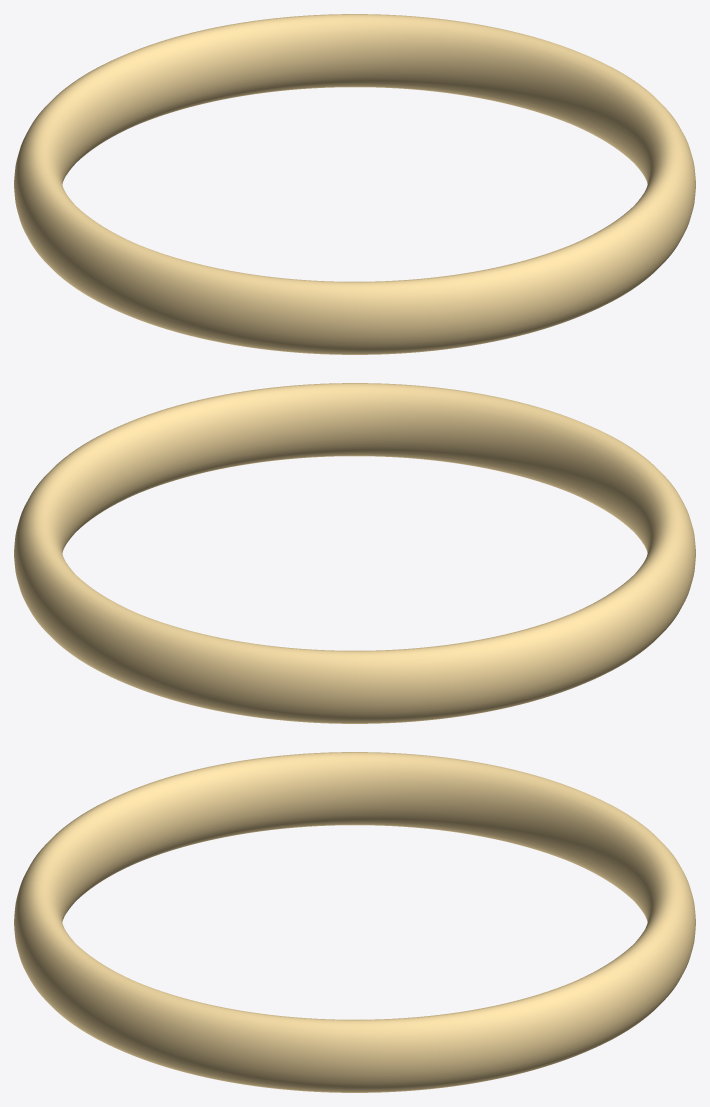
File: bangle-gold.glb
3 renders of one model, top to bottom at view 1: azimuth 30°, elevation 25°; view 2: azimuth 150°, elevation 25°; view 3: azimuth 270°, elevation 25°, orthographic.
Visible parts, largest first — view 1: bangle; view 2: bangle; view 3: bangle.
Part boxes in pixels (left/top/right/bottom): bangle: left=14, top=14, right=695, bottom=354; bangle: left=14, top=383, right=695, bottom=723; bangle: left=14, top=752, right=695, bottom=1092.
Size of the model in its own units: 0.0732 by 0.00832 by 0.0732.
